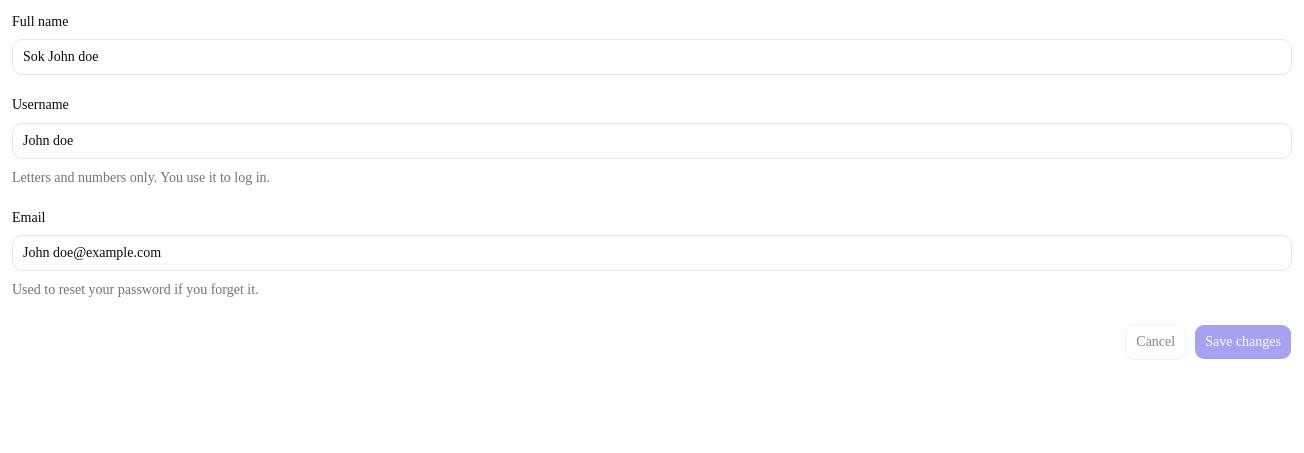
Test: ProfileForm › validates with the API rules
The width and height of the screenshot is (1304, 453).
Replace the text in the field labelled "Full name" with "S" at (652, 57), box [12,39,1292,75]
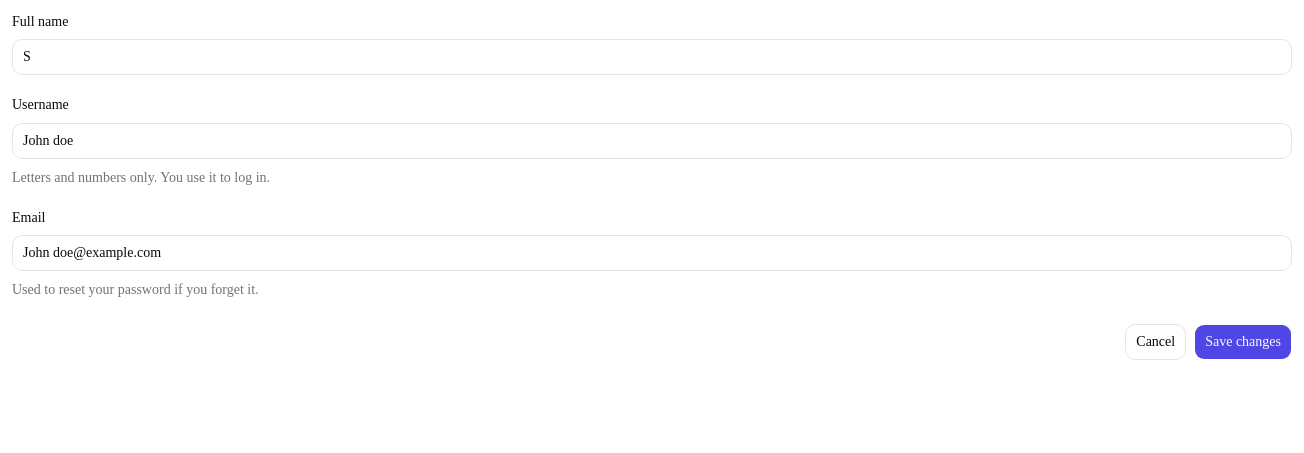
Replace the text in the field labelled "Username" with "sok.John doe" at (652, 140), box [12,122,1292,158]
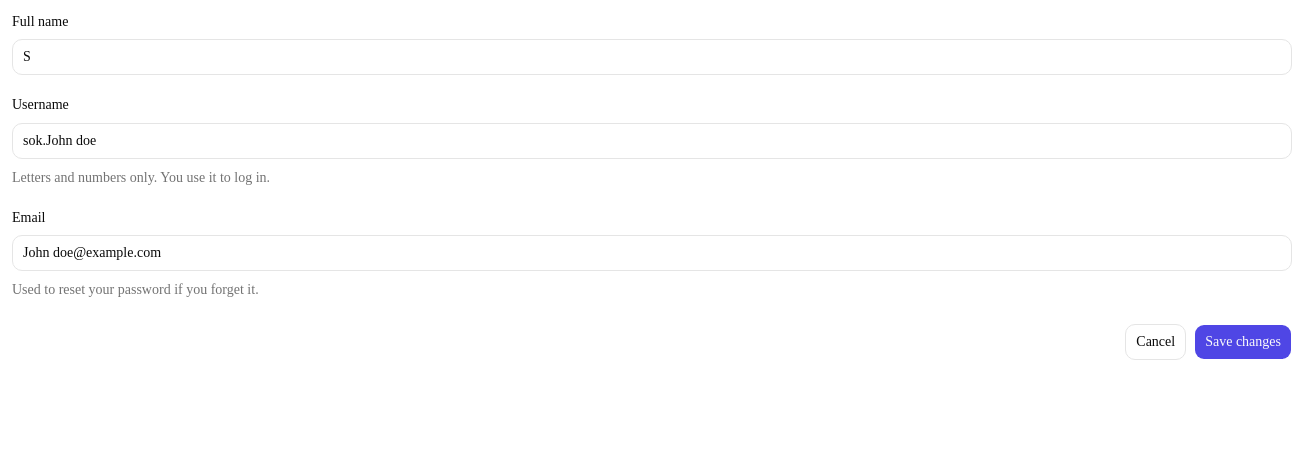
Replace the text in the field labelled "Email" with "not-an-email" at (652, 253), box [12,235,1292,271]
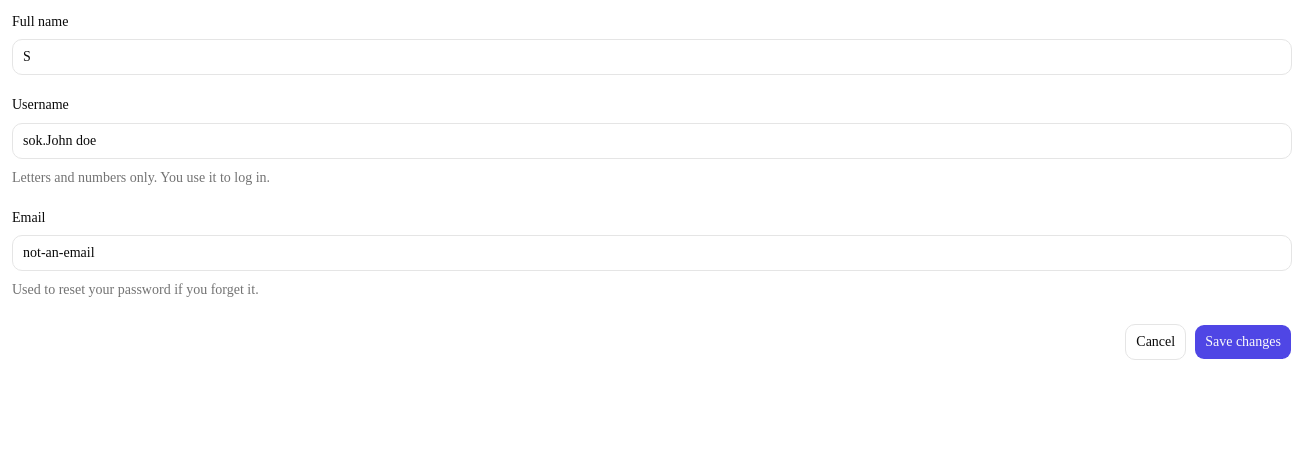
Click the button "Save changes" at (1243, 342), box [1194,324,1292,360]
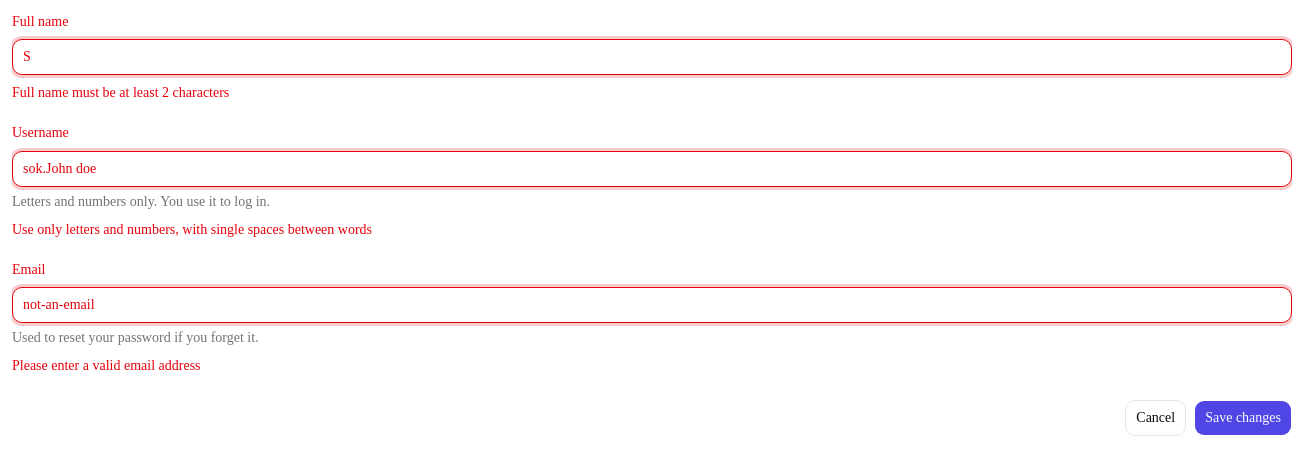
Result: the text "Full name must be at least 2 characters" is shown at [12,85,229,100]
Result: the text "Use only letters and numbers, with single spaces between words" is shown at [12,222,372,236]
Result: the text "Please enter a valid email address" is shown at [12,358,200,373]
